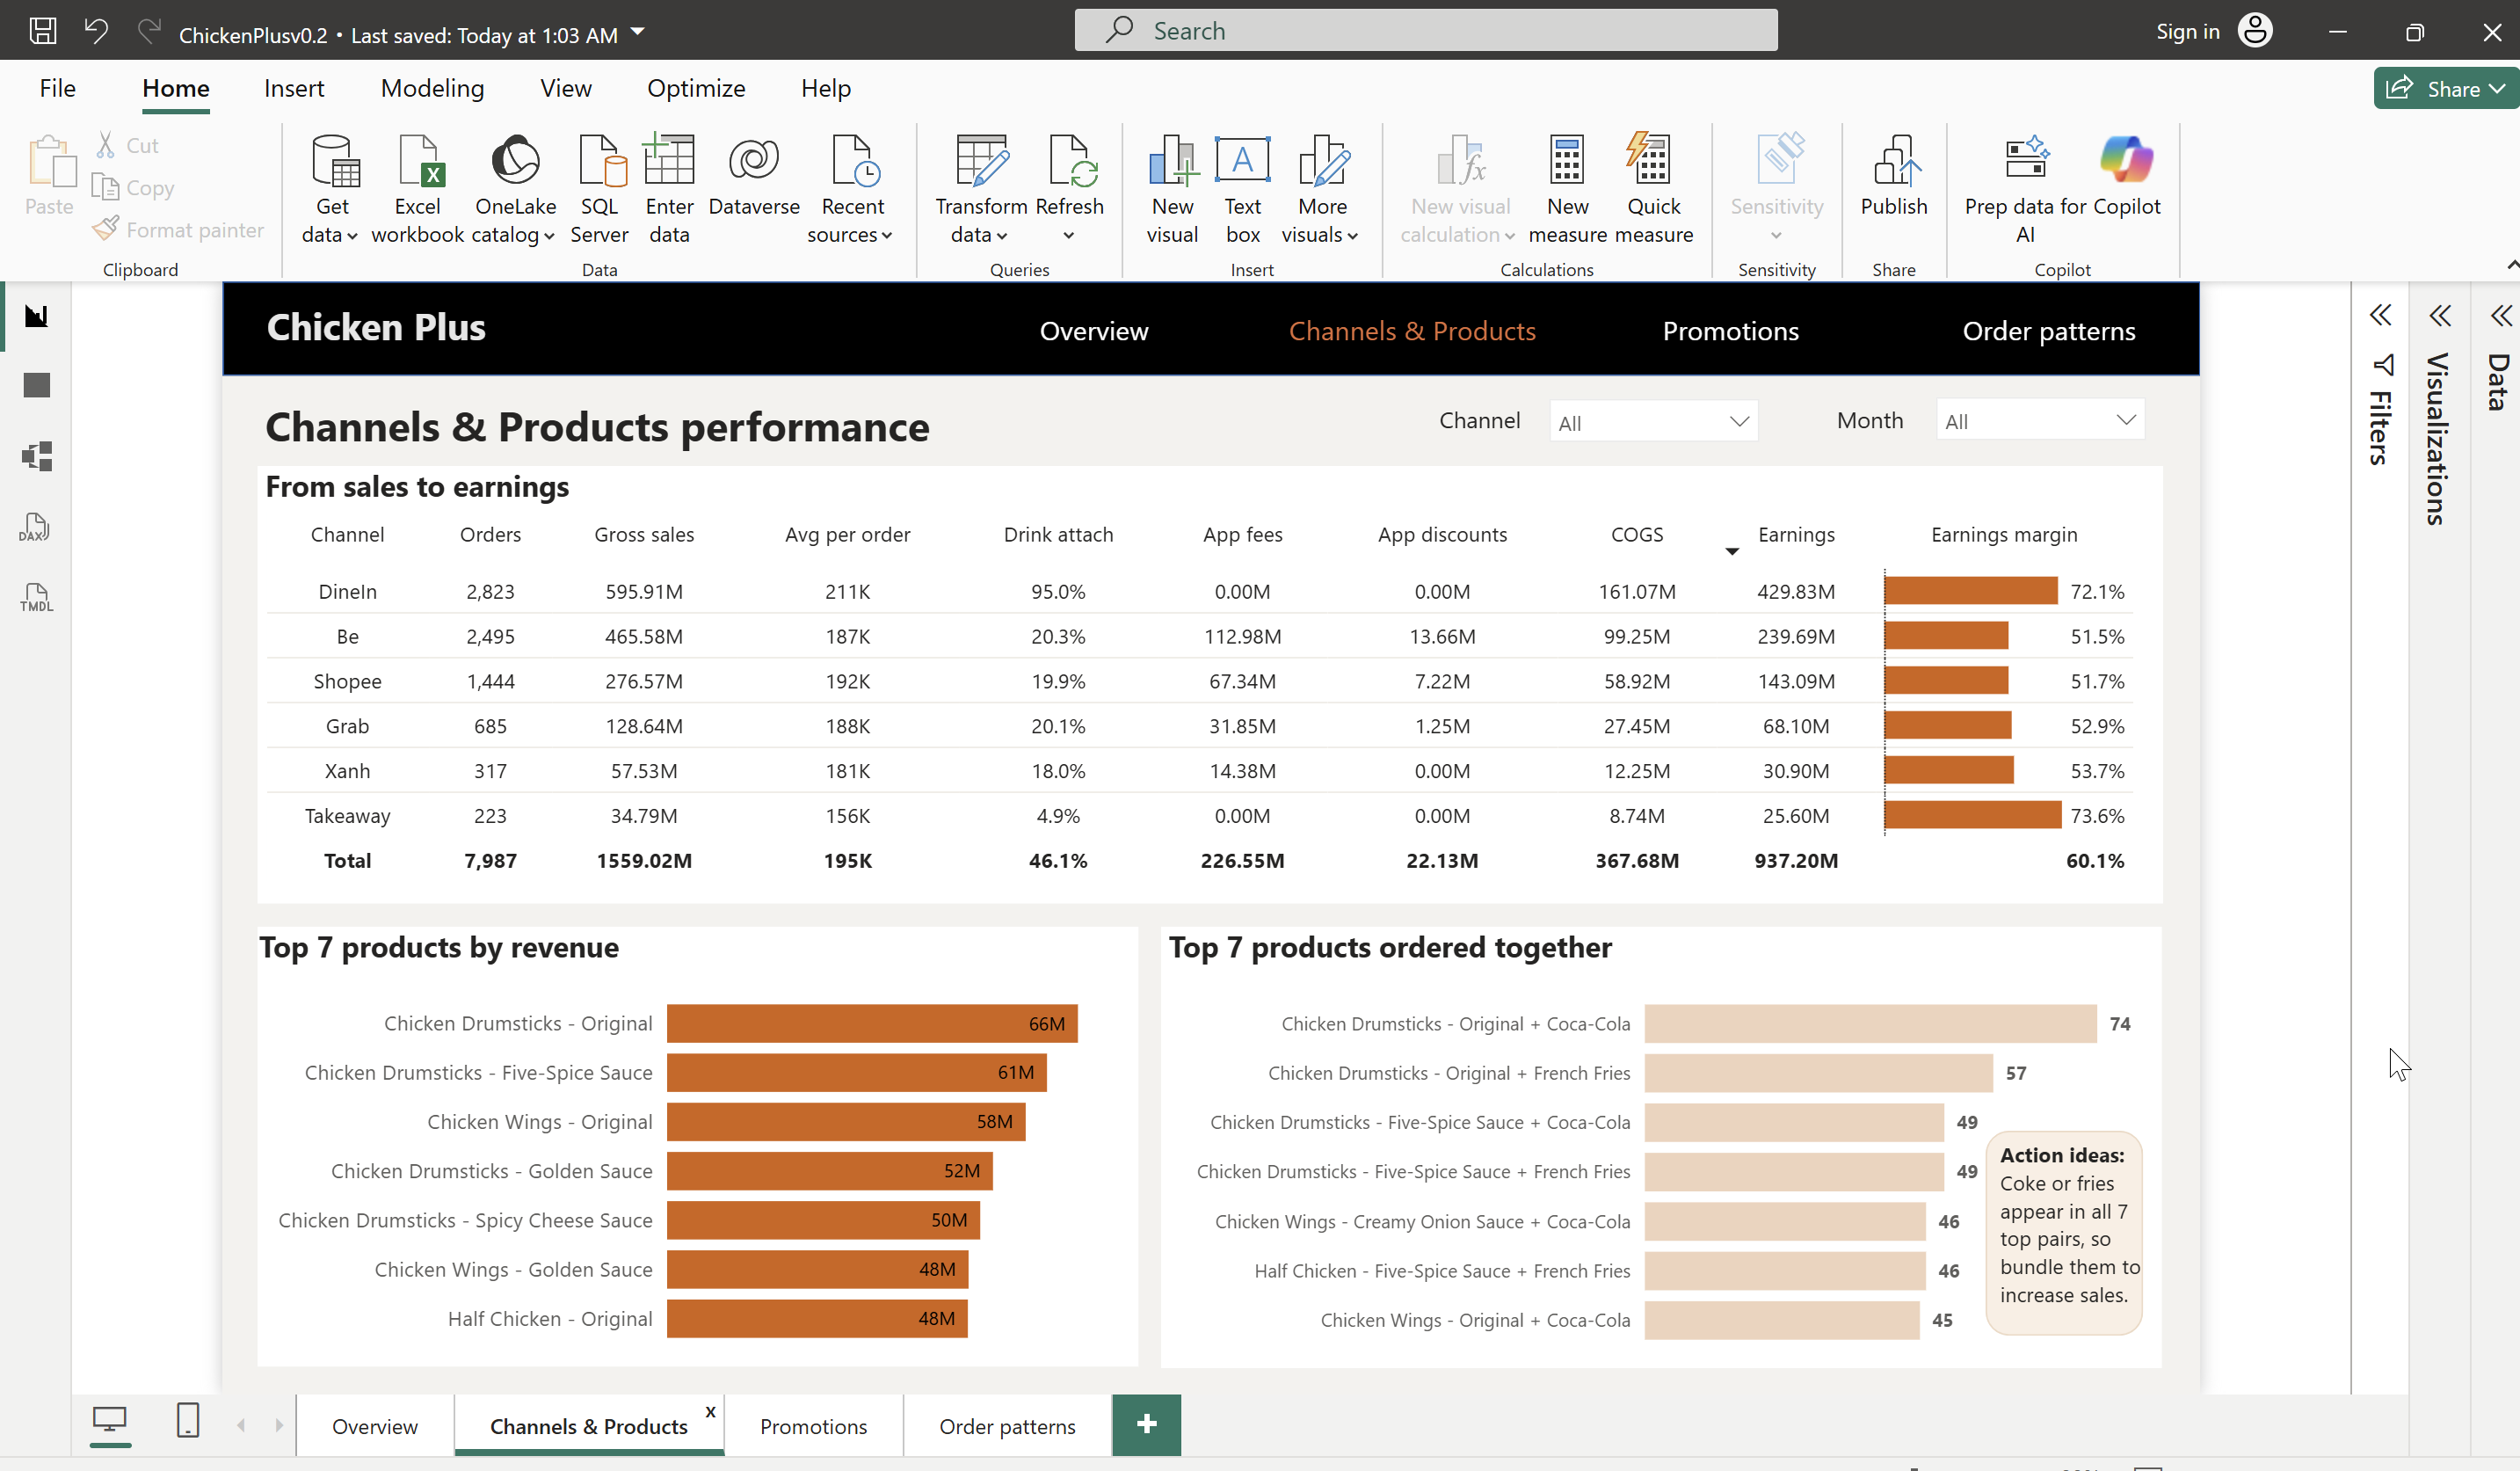

Layout of this report page (visuals, bound fields, positions):
{"tool":"powerbi","page":{"name":"Channels & Products","canvas":[1280,720],"ordinal":1},"visuals":[{"type":"group","id":"g1","title":"Header","box":[0,0,1280.7,73.9],"z":0},{"type":"shape","box":[0,0,1280,61.2],"z":0,"group":"g1"},{"type":"textbox","box":[23.5,6.7,199.9,67.2],"z":1000,"group":"g1"},{"type":"textbox","box":[22.9,68.8,632.4,51],"z":1000},{"type":"pageNavigator","box":[466,6.4,814.7,49.7],"z":2000,"group":"g1"},{"type":"slicer","fields":{"Values":["date.Month"]},"box":[1099.3,65,156.2,41.3],"z":2000},{"type":"textbox","box":[1039.6,73.5,59.7,38.3],"z":3000},{"type":"slicer","fields":{"Values":["orders.CHANNEL"]},"box":[848.2,65.8,156.2,42.9],"z":4000},{"type":"textbox","box":[782.4,73.5,65.8,35.2],"z":5000},{"type":"tableEx","title":"From sales to earnings","fields":{"Values":["orders.CHANNEL","_Measure.Orders","_Measure.Gross Sales","_Measure.AOV","_Measure.Drink Attach %","_Measure.Item App Fees","_Measure.Platform Discounts","_Measure.COGS","_Measure.Earnings","_Measure.Earnings Margin %"]},"box":[22.9,119.8,1232.8,283],"z":6000},{"type":"barChart","title":"Top 7 products by revenue","fields":{"Category":["products.PRODUCT_NAME_EN"],"Y":["_Measure.Item Gross Sales"]},"box":[22.9,416.9,569.9,284.3],"z":8000},{"type":"clusteredBarChart","title":"Top 7 products ordered together","fields":{"Category":["pairs.Custom"],"Y":["_Measure.Orders Together"]},"box":[606.9,416.9,647.6,285.6],"z":9000},{"type":"shape","box":[1141,549.5,102,132.6],"z":11000},{"type":"textbox","box":[1145,550,113.5,146.6],"z":12000}]}

Visuals, with their boxes on the page's 1280x720 design canvas (x1, y1, x2, y2). These are canvas units, not pixel positions in the 2520x1471 screenshot, which may show the page scaled, cropped or inside an application window:
"Header" group: (x1=0, y1=0, x2=1281, y2=74)
shape: (x1=0, y1=0, x2=1280, y2=61)
textbox: (x1=24, y1=7, x2=223, y2=74)
textbox: (x1=23, y1=69, x2=655, y2=120)
pageNavigator: (x1=466, y1=6, x2=1281, y2=56)
slicer - date.Month: (x1=1099, y1=65, x2=1256, y2=106)
textbox: (x1=1040, y1=74, x2=1099, y2=112)
slicer - orders.CHANNEL: (x1=848, y1=66, x2=1004, y2=109)
textbox: (x1=782, y1=74, x2=848, y2=109)
"From sales to earnings" tableEx: (x1=23, y1=120, x2=1256, y2=403)
"Top 7 products by revenue" barChart: (x1=23, y1=417, x2=593, y2=701)
"Top 7 products ordered together" clusteredBarChart: (x1=607, y1=417, x2=1254, y2=702)
shape: (x1=1141, y1=550, x2=1243, y2=682)
textbox: (x1=1145, y1=550, x2=1258, y2=697)
